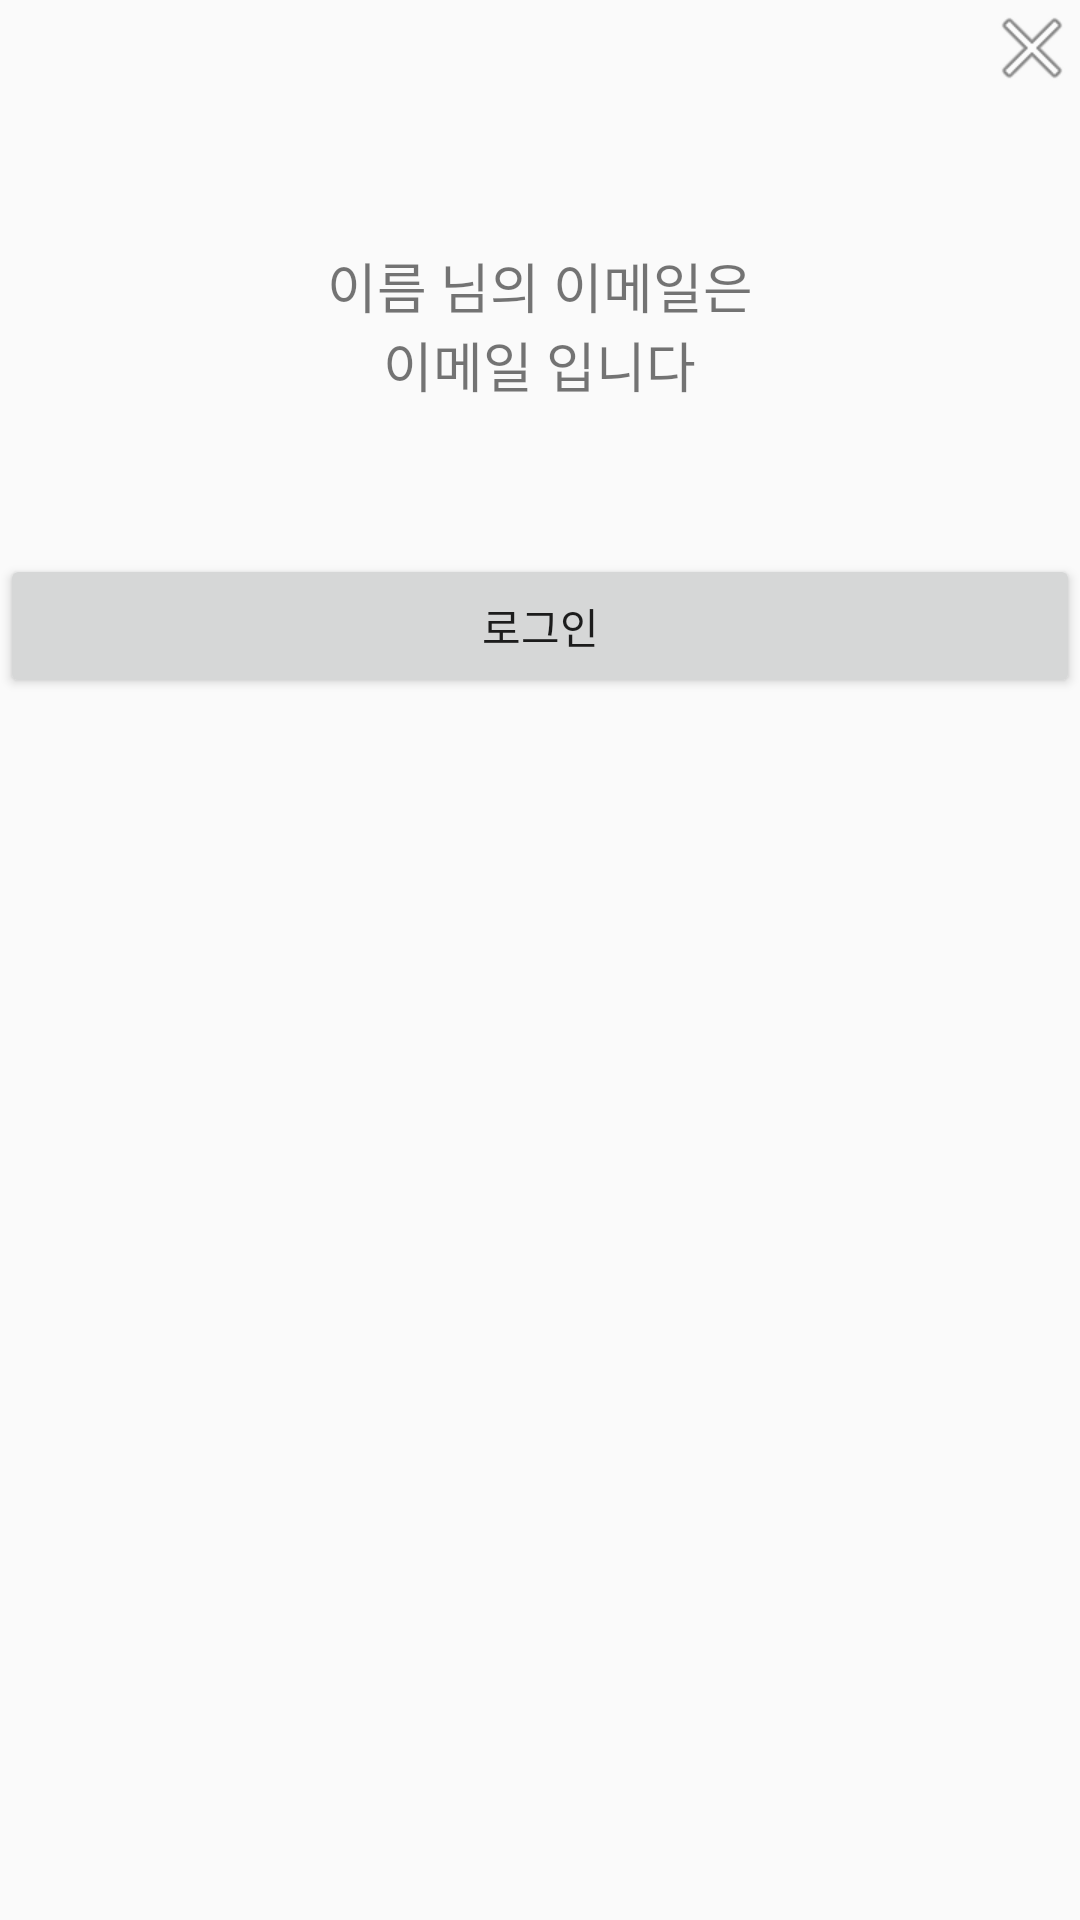

Icons on this 1080px×1920px Android screen, each with the point to tap as (x,y):
close clear cancel: (1032,48)
